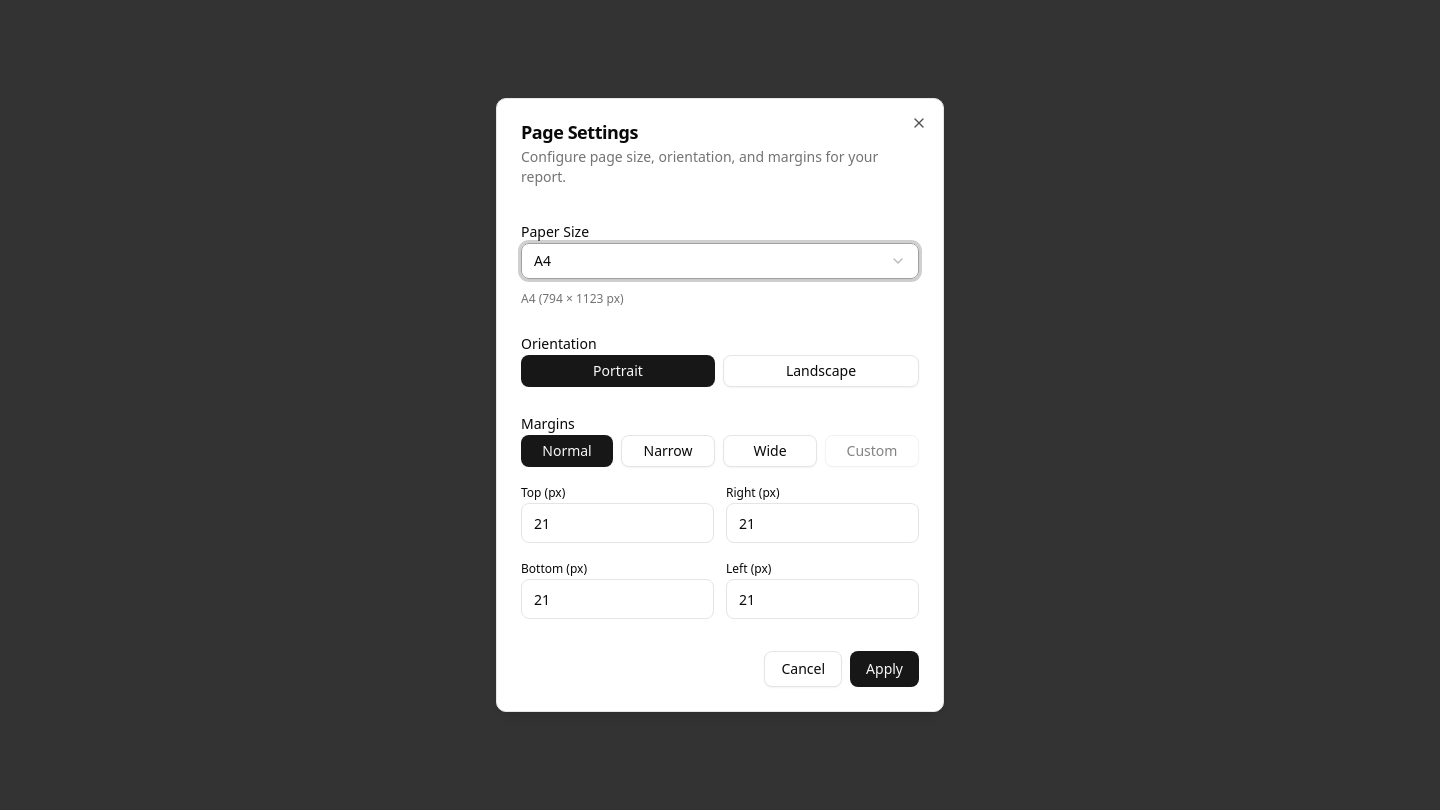
Test case: PageConfigDialog › shows custom dimension inputs when Custom paper size is selected
Click the dropdown with test id "paper-size-select" at (542, 260), box [521,243,919,279]
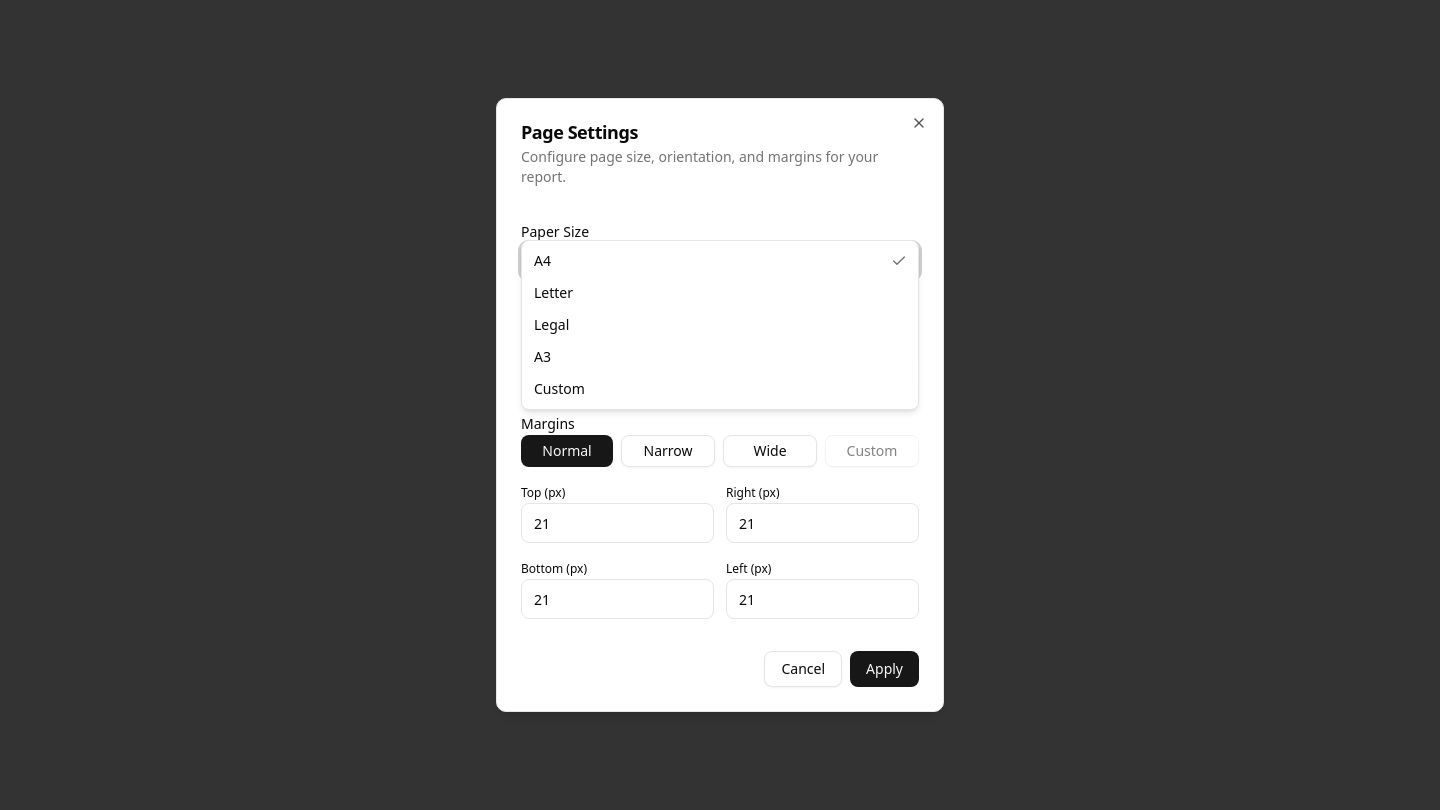
Note: Select the "Custom" option from the portal
Click the option "Custom" at (559, 388), box [534,379,585,398]
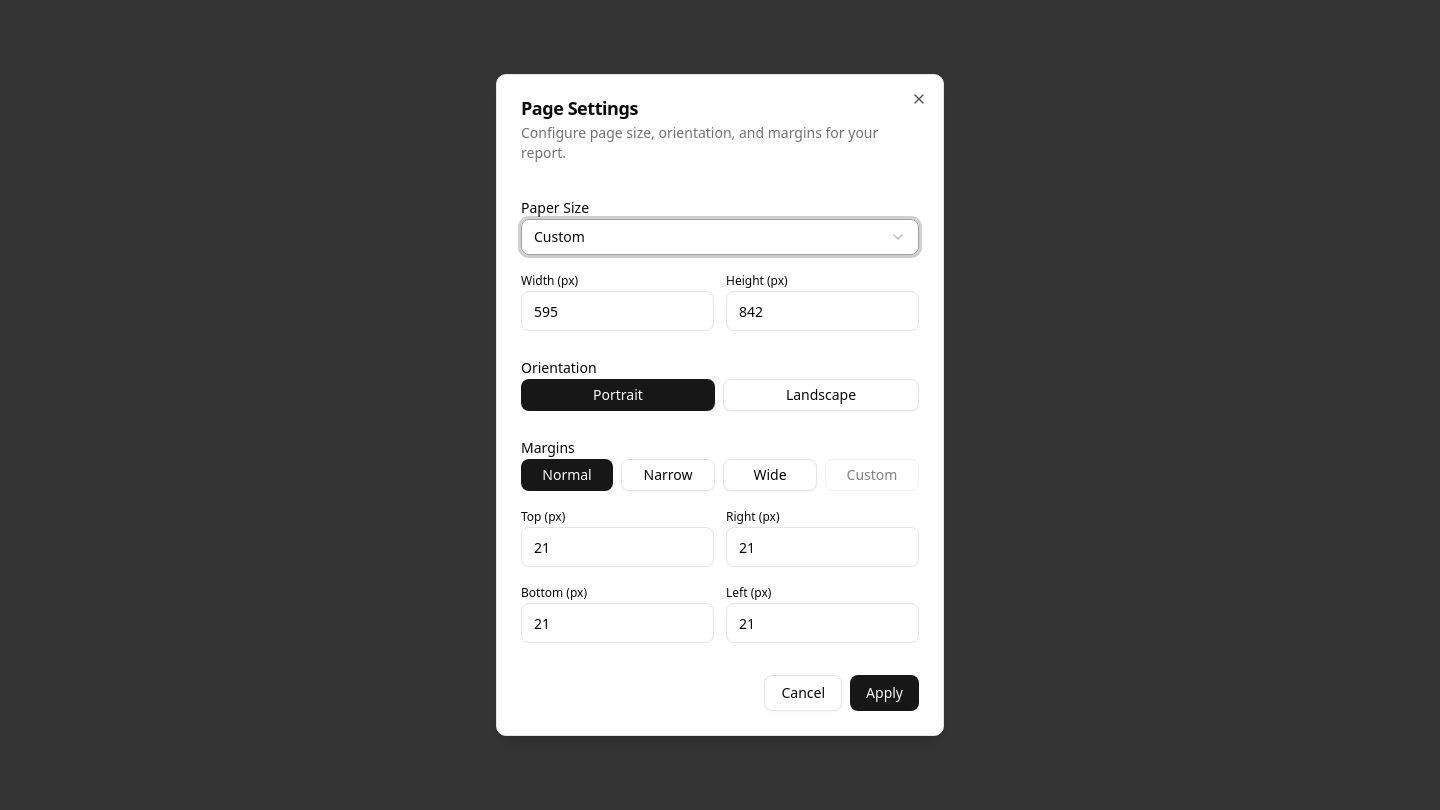
Check: the number field with test id "custom-width" is shown, box [521,291,714,331]
Check: the number field with test id "custom-height" is shown, box [726,291,919,331]
